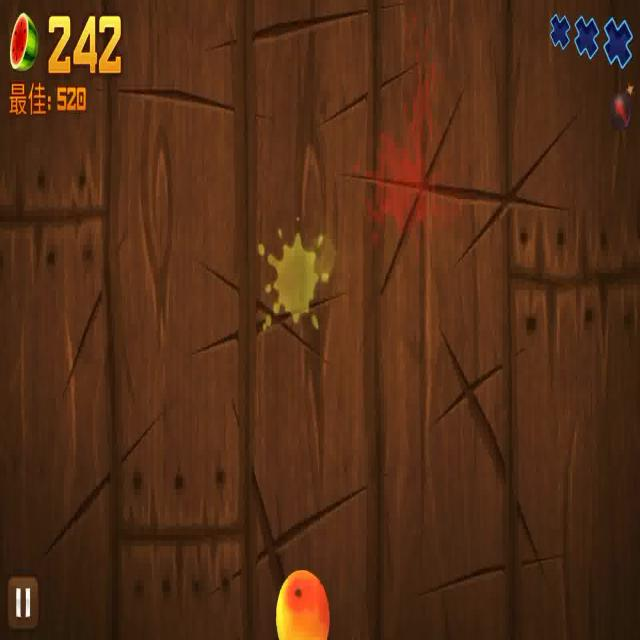fruit: (273, 562, 336, 640)
